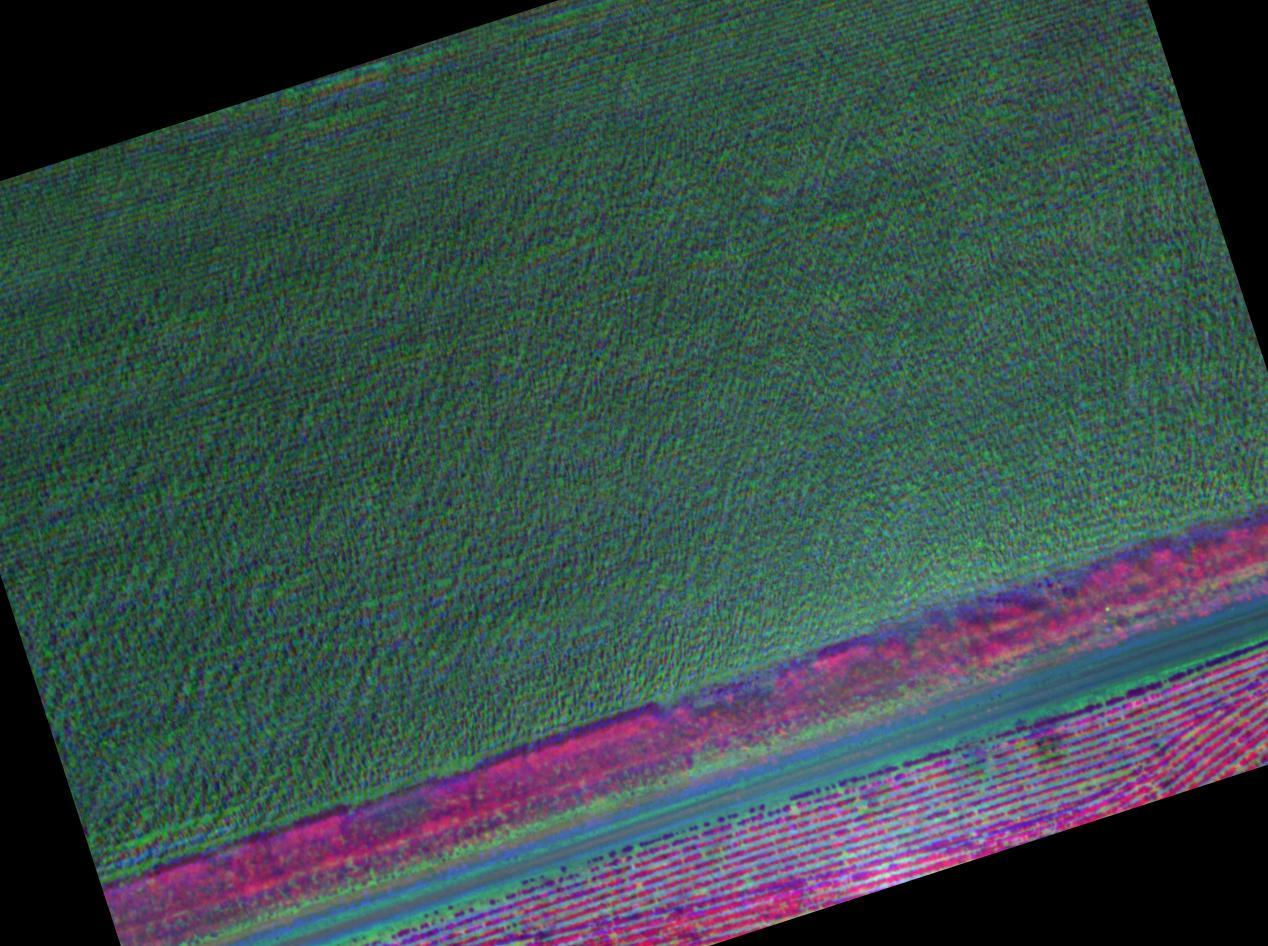dc: (1006, 697, 1103, 791)
